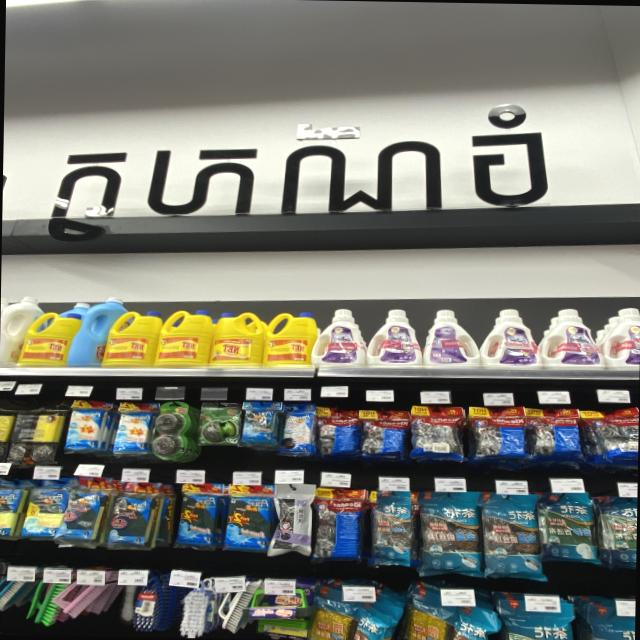Yolov11kh: (39, 87, 566, 248)
